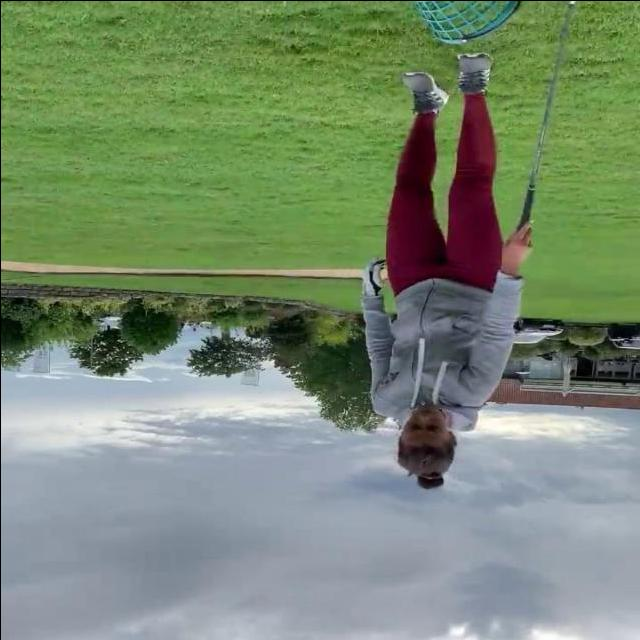golf club-handle: (513, 0, 575, 234)
